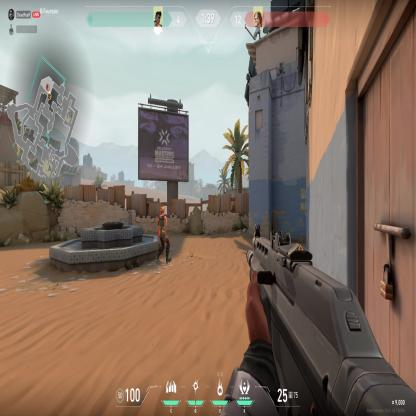enemy: (155, 205, 173, 265)
